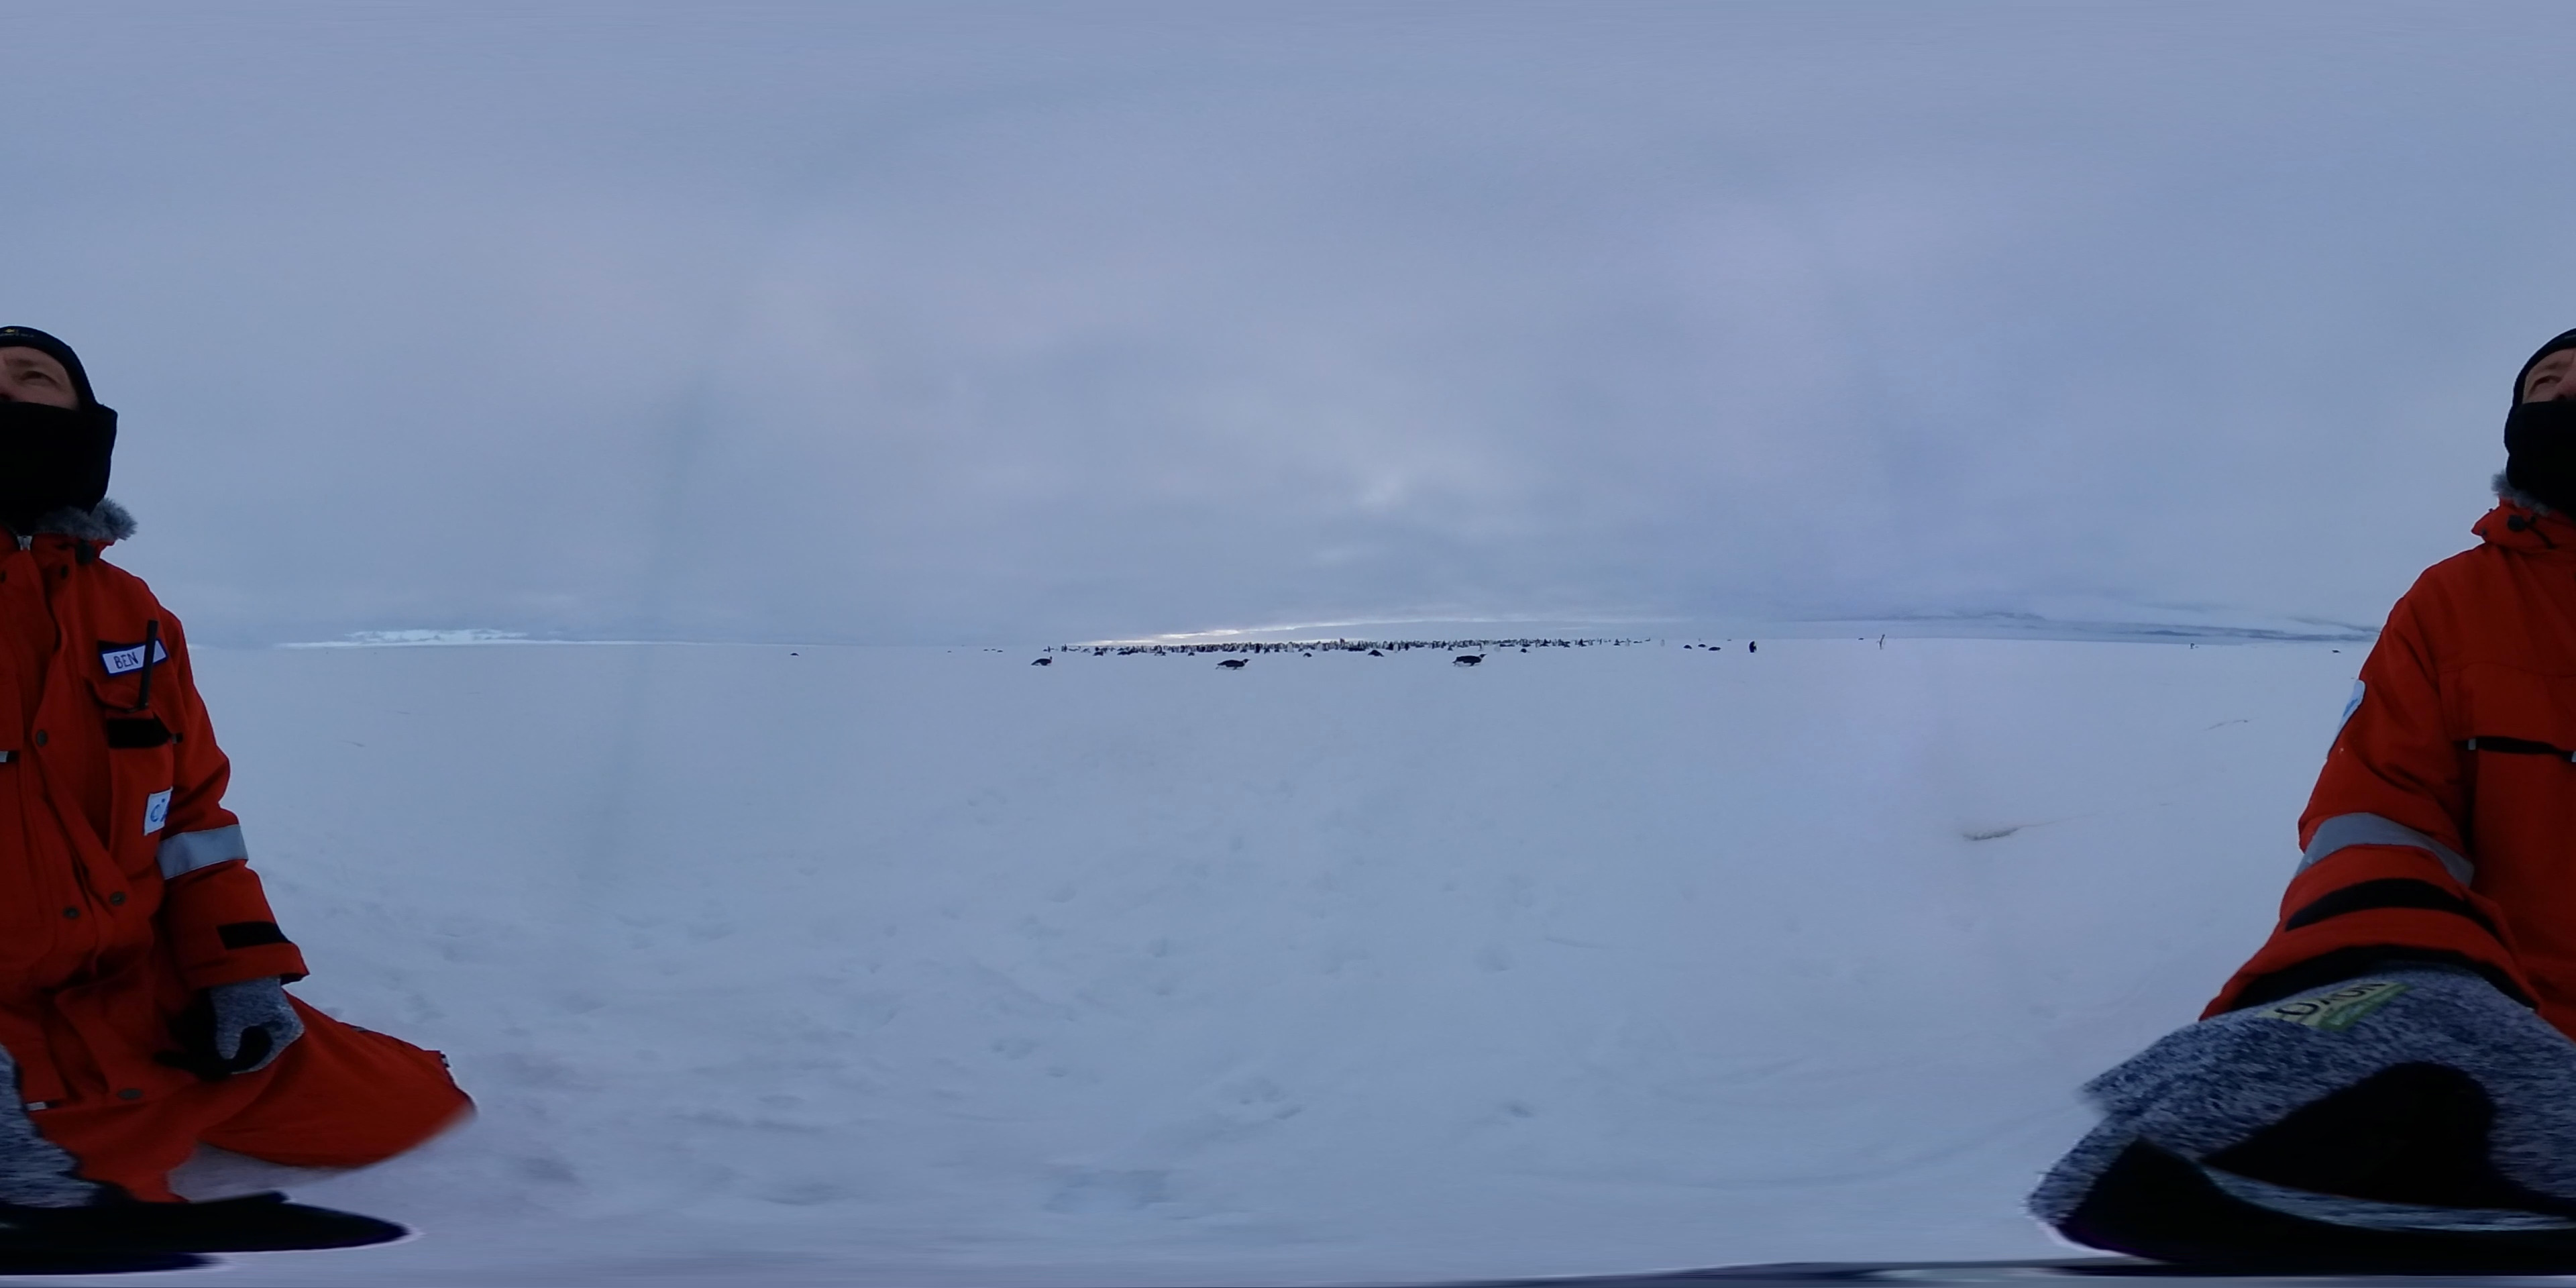adult_standing_penguin: (1745, 639, 1759, 655), (1873, 632, 1888, 647)
adult_toboggan_penguin: (1209, 657, 1253, 672), (1451, 652, 1487, 667), (1027, 655, 1053, 667)
researcher: (2050, 314, 2576, 1119), (0, 315, 381, 1275)
